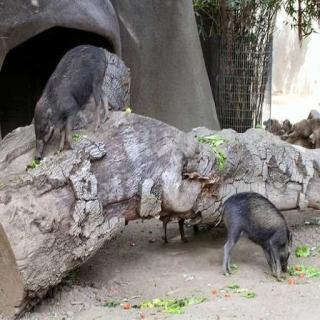Pig: (34, 42, 120, 164), (222, 188, 310, 288)
